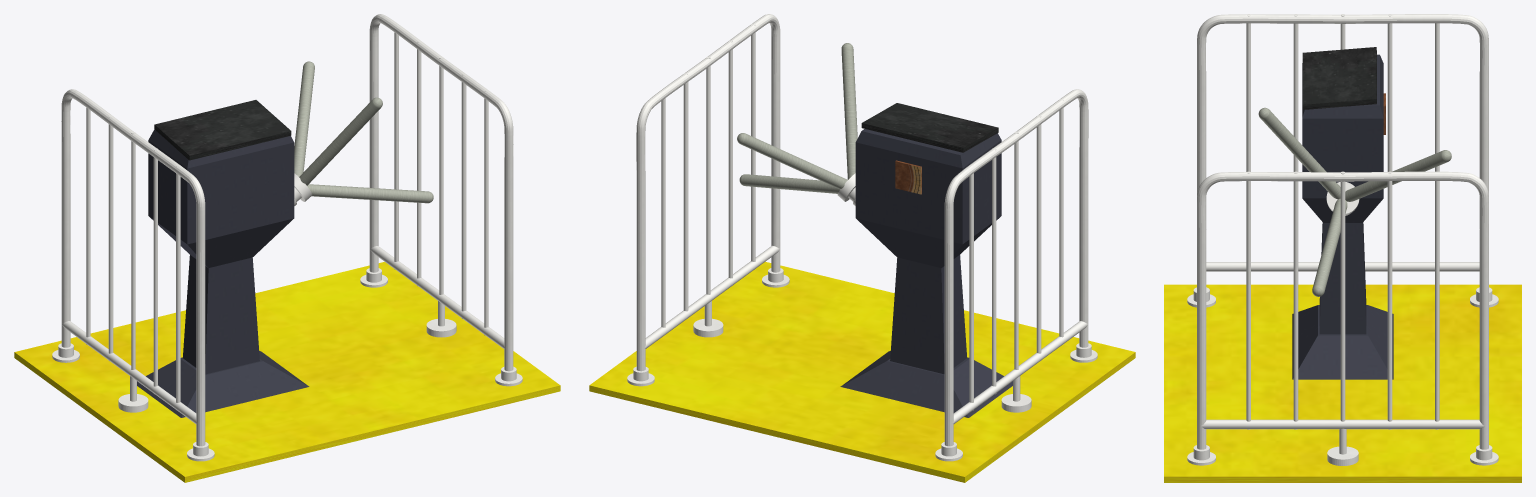
The model's file is Other_Tripod_Turnstile__0000.glb.
3 renders of one model, left to right at view 1: azimuth 30°, elevation 25°; view 2: azimuth 150°, elevation 25°; view 3: azimuth 270°, elevation 25°, orthographic. The views are drawn at different scales.
Visible parts, largest first — view 1: cabinet::base_plate, cabinet::head_shell_+0.00, cabinet::column_+0.00, side_railing_1::frame, side_railing_0::frame, cabinet::base_plinth_+0.00, cabinet::sloped_cap_+0.00, tripod_hub_0::arm_2, side_railing_0::bottom_rail, side_railing_1::bottom_rail, tripod_hub_0::arm_1, tripod_hub_0::arm_0 (+10 smaller); view 2: cabinet::base_plate, cabinet::head_shell_+0.00, cabinet::column_+0.00, side_railing_1::frame, side_railing_0::frame, cabinet::base_plinth_+0.00, cabinet::sloped_cap_+0.00, tripod_hub_0::arm_1, side_railing_0::bottom_rail, side_railing_1::bottom_rail, tripod_hub_0::arm_0, side_railing_1::baluster_1 (+11 smaller); view 3: cabinet::base_plate, side_railing_0::frame, cabinet::head_shell_+0.00, side_railing_1::frame, cabinet::base_plinth_+0.00, cabinet::sloped_cap_+0.00, cabinet::column_+0.00, side_railing_0::bottom_rail, side_railing_1::bottom_rail, side_railing_0::baluster_2, side_railing_0::baluster_1, side_railing_0::baluster_3 (+10 smaller).
Part boxes in pixels (bbox=[...]): cabinet::base_plate: bbox=[14, 262, 560, 482]; cabinet::head_shell_+0.00: bbox=[148, 129, 294, 267]; cabinet::column_+0.00: bbox=[183, 255, 259, 374]; side_railing_1::frame: bbox=[61, 89, 205, 446]; side_railing_0::frame: bbox=[369, 14, 513, 371]; cabinet::base_plinth_+0.00: bbox=[137, 351, 309, 417]; cabinet::sloped_cap_+0.00: bbox=[154, 100, 291, 160]; tripod_hub_0::arm_2: bbox=[307, 184, 433, 203]; side_railing_0::bottom_rail: bbox=[370, 246, 505, 348]; side_railing_1::bottom_rail: bbox=[62, 321, 197, 423]; tripod_hub_0::arm_1: bbox=[299, 97, 382, 185]; tripod_hub_0::arm_0: bbox=[294, 61, 314, 176]; cabinet::base_plate: bbox=[589, 261, 1135, 482]; cabinet::head_shell_+0.00: bbox=[855, 129, 1001, 267]; cabinet::column_+0.00: bbox=[890, 255, 967, 374]; side_railing_1::frame: bbox=[944, 89, 1088, 446]; side_railing_0::frame: bbox=[636, 14, 780, 371]; cabinet::base_plinth_+0.00: bbox=[840, 351, 1012, 417]; cabinet::sloped_cap_+0.00: bbox=[861, 103, 998, 152]; tripod_hub_0::arm_1: bbox=[841, 43, 857, 179]; side_railing_0::bottom_rail: bbox=[644, 245, 779, 348]; side_railing_1::bottom_rail: bbox=[952, 321, 1087, 423]; tripod_hub_0::arm_0: bbox=[737, 133, 847, 189]; side_railing_1::baluster_1: bbox=[1036, 115, 1041, 353]; cabinet::base_plate: bbox=[1164, 284, 1521, 482]; side_railing_0::frame: bbox=[1197, 171, 1488, 449]; cabinet::head_shell_+0.00: bbox=[1302, 54, 1383, 222]; side_railing_1::frame: bbox=[1197, 14, 1488, 228]; cabinet::base_plinth_+0.00: bbox=[1292, 305, 1393, 379]; cabinet::sloped_cap_+0.00: bbox=[1302, 47, 1376, 109]; cabinet::column_+0.00: bbox=[1319, 222, 1366, 334]; side_railing_0::bottom_rail: bbox=[1201, 419, 1484, 429]; side_railing_1::bottom_rail: bbox=[1206, 262, 1479, 271]; side_railing_0::baluster_2: bbox=[1340, 171, 1345, 421]; side_railing_0::baluster_1: bbox=[1293, 171, 1298, 429]; side_railing_0::baluster_3: bbox=[1387, 171, 1392, 429].
Bounding box in the file's own units: 1.45 × 1.07 × 1.14.
Materials: 7 (7 with a texture image).
